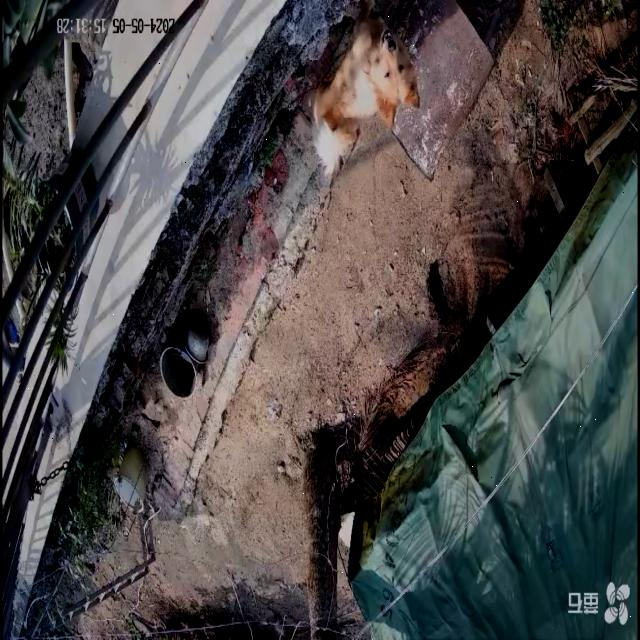dog: (314, 2, 422, 178)
